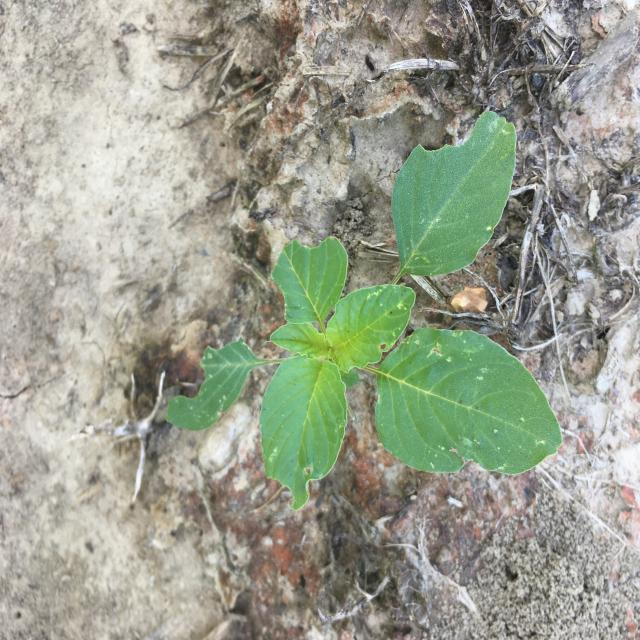PalmerAmaranth: (165, 111, 563, 511)
